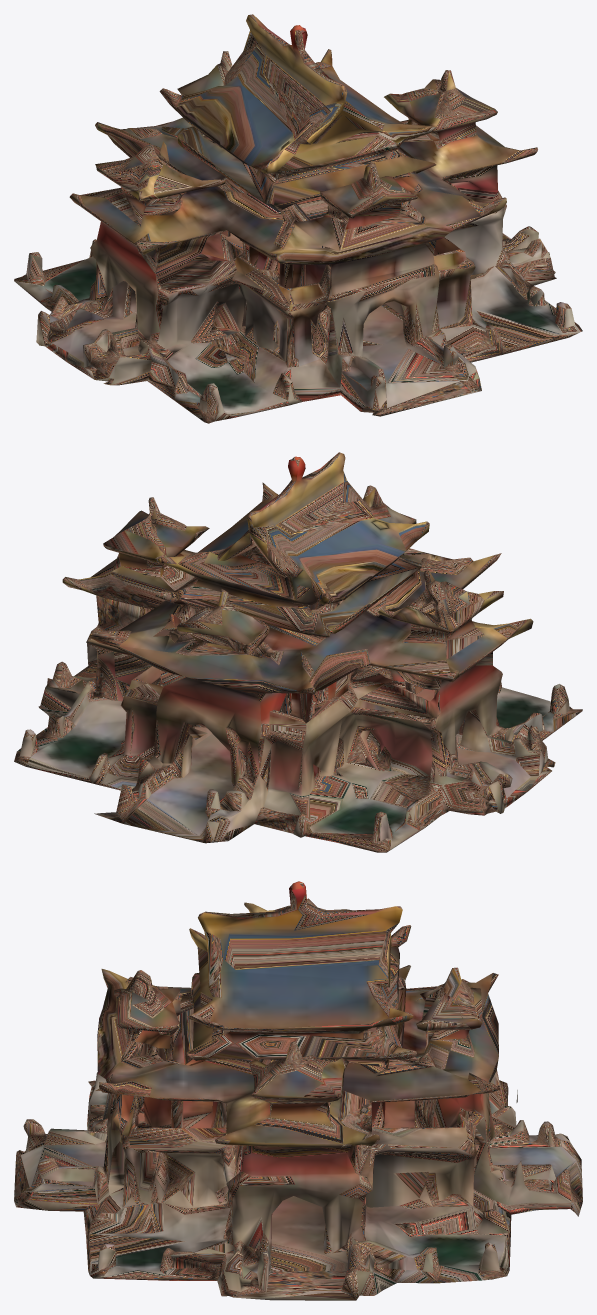
The model's file is bq_array_hall.lod.glb.
The picture shows the model from 3 angles, top to bottom: view 1: azimuth 30°, elevation 25°; view 2: azimuth 150°, elevation 25°; view 3: azimuth 270°, elevation 25°; orthographic projection. The views are drawn at different scales.
Size of the model in its own units: 1.99 by 1.16 by 1.99.
Materials: 1 (1 with a texture image).
